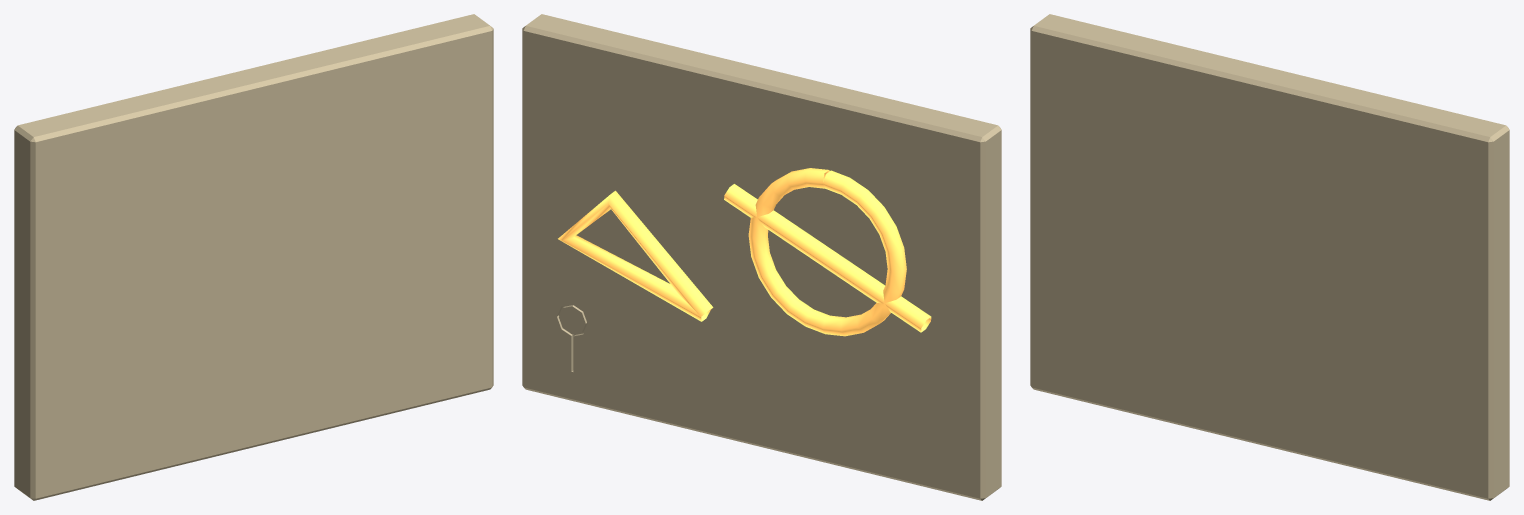
Rendered from mural_3.glb.
The picture shows the model from 3 angles, left to right: view 1: azimuth 30°, elevation 25°; view 2: azimuth 150°, elevation 25°; view 3: azimuth 330°, elevation 25°; orthographic projection.
Visible parts, largest first — view 1: mural_3; view 2: mural_3; view 3: mural_3.
Boxes of the visible parts, bbox=[...] form: mural_3: bbox=[14, 14, 493, 500]; mural_3: bbox=[522, 14, 1001, 500]; mural_3: bbox=[1030, 14, 1509, 500].
Bounding box in the file's own units: 4 × 3 × 0.452.
